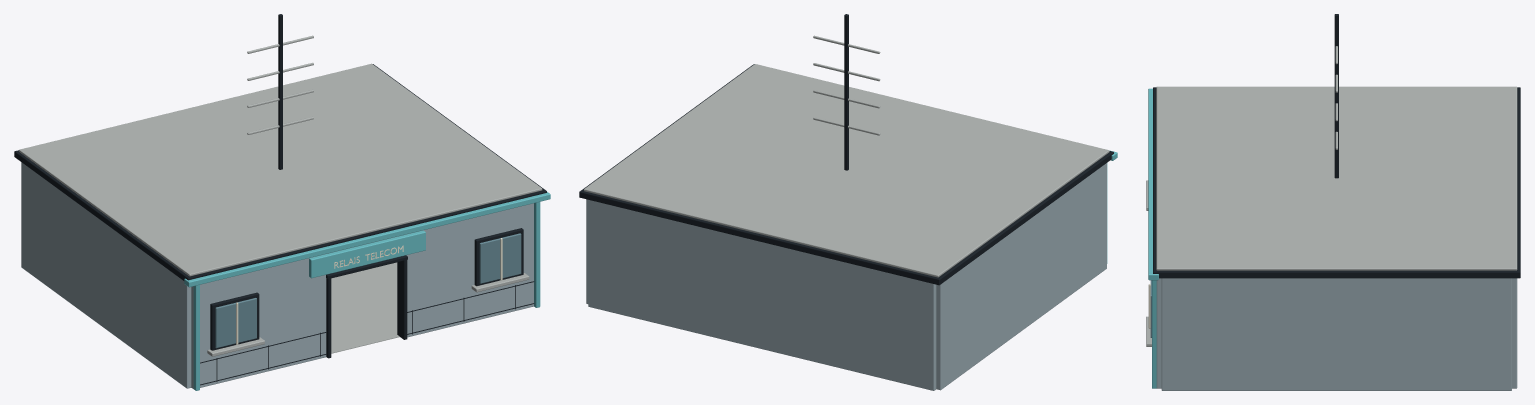
The model's file is telecom.glb.
3 views of the same model, side by side, from view 1: azimuth 30°, elevation 25°; view 2: azimuth 150°, elevation 25°; view 3: azimuth 270°, elevation 25° (orthographic). The views are drawn at different scales.
Parts seen in each view (by area): view 1: RoofSurface, LeftWall, FrontPier, FrontPier.001, InteriorFloor, RoofSlab, FacadeCornice, SignBacking, WindowPane.001, WindowPane, DoorJamb.001, AntennaMast (+5 smaller); view 2: RoofSurface, RearWall, LeftWall, RoofSlab, AntennaMast; view 3: RoofSurface, RightWall, RoofSlab, FacadeCornice, AntennaMast, RearWall, FrontPier.001, CornerColumn.001.
Boxes of the visible parts, bbox=[...] form: RoofSurface: bbox=[19, 63, 542, 276]; LeftWall: bbox=[21, 162, 191, 388]; FrontPier: bbox=[191, 254, 326, 388]; FrontPier.001: bbox=[406, 203, 533, 337]; InteriorFloor: bbox=[331, 262, 399, 353]; RoofSlab: bbox=[14, 64, 546, 280]; FacadeCornice: bbox=[184, 192, 550, 287]; SignBacking: bbox=[309, 230, 425, 278]; WindowPane.001: bbox=[479, 233, 521, 283]; WindowPane: bbox=[215, 298, 256, 348]; DoorJamb.001: bbox=[397, 259, 407, 339]; AntennaMast: bbox=[278, 14, 282, 169]; RoofSurface: bbox=[584, 64, 1109, 277]; RearWall: bbox=[588, 200, 936, 390]; LeftWall: bbox=[936, 163, 1106, 390]; RoofSlab: bbox=[579, 64, 1113, 285]; AntennaMast: bbox=[844, 14, 848, 170]; RoofSurface: bbox=[1156, 86, 1517, 270]; RightWall: bbox=[1161, 278, 1511, 390]; RoofSlab: bbox=[1153, 87, 1520, 278]; FacadeCornice: bbox=[1148, 88, 1158, 280]; AntennaMast: bbox=[1334, 14, 1338, 178]; RearWall: bbox=[1512, 278, 1517, 388]; FrontPier.001: bbox=[1156, 278, 1161, 388]; CornerColumn.001: bbox=[1152, 280, 1156, 388].
Size of the model in its own units: 12.6 by 9 by 10.69.
